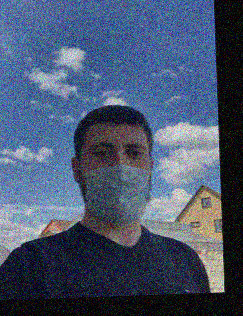with_mask: (81, 136, 152, 229)
